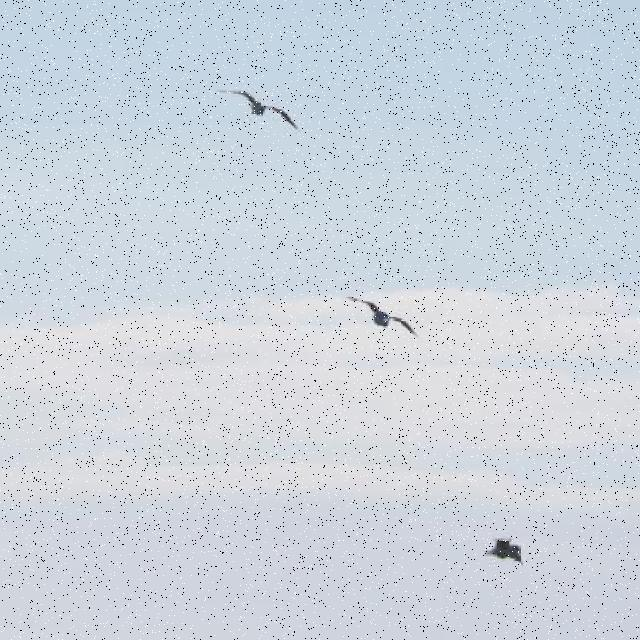bird: (343, 295, 420, 340), (218, 90, 299, 132), (484, 537, 524, 568)
